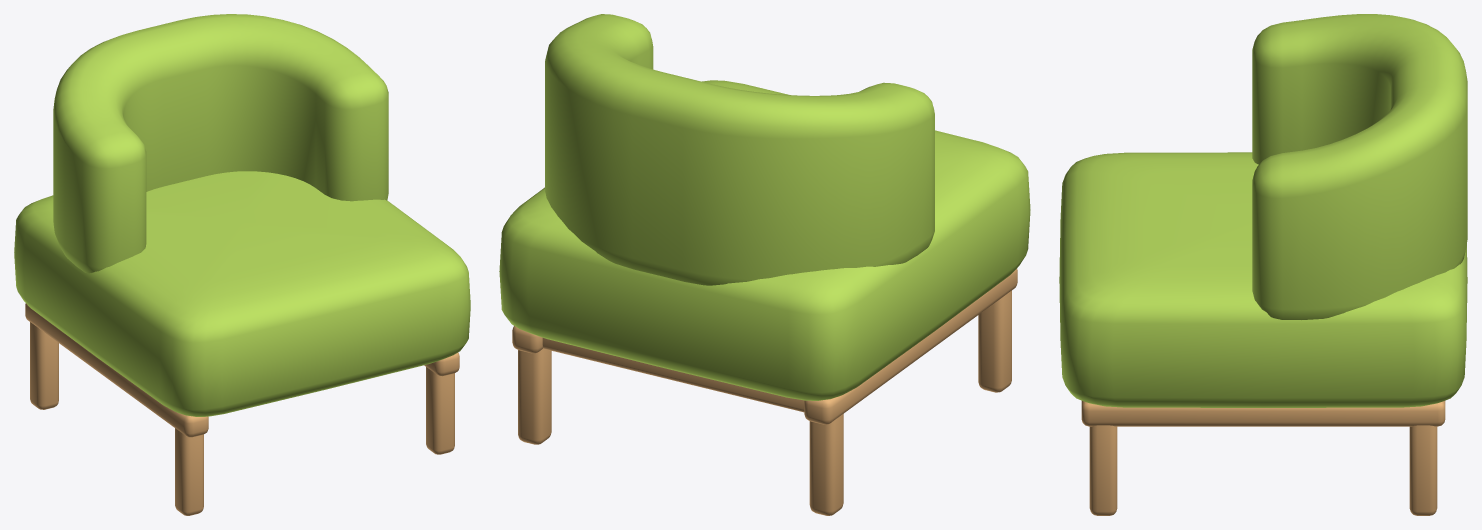
Rendered from poltrona_sem_bracos_lima.glb.
The picture shows the model from 3 angles, left to right: view 1: azimuth 30°, elevation 25°; view 2: azimuth 150°, elevation 25°; view 3: azimuth 270°, elevation 25°; orthographic projection. The views are drawn at different scales.
Visible parts, largest first — view 1: poltrona_sem_bracos_lima; view 2: poltrona_sem_bracos_lima; view 3: poltrona_sem_bracos_lima.
Part boxes in pixels (bbox=[...]): poltrona_sem_bracos_lima: bbox=[14, 14, 470, 515]; poltrona_sem_bracos_lima: bbox=[499, 14, 1030, 515]; poltrona_sem_bracos_lima: bbox=[1059, 14, 1467, 515].
Bounding box in the file's own units: 0.7 × 0.7567 × 0.74.
1 material, 1 textured.
